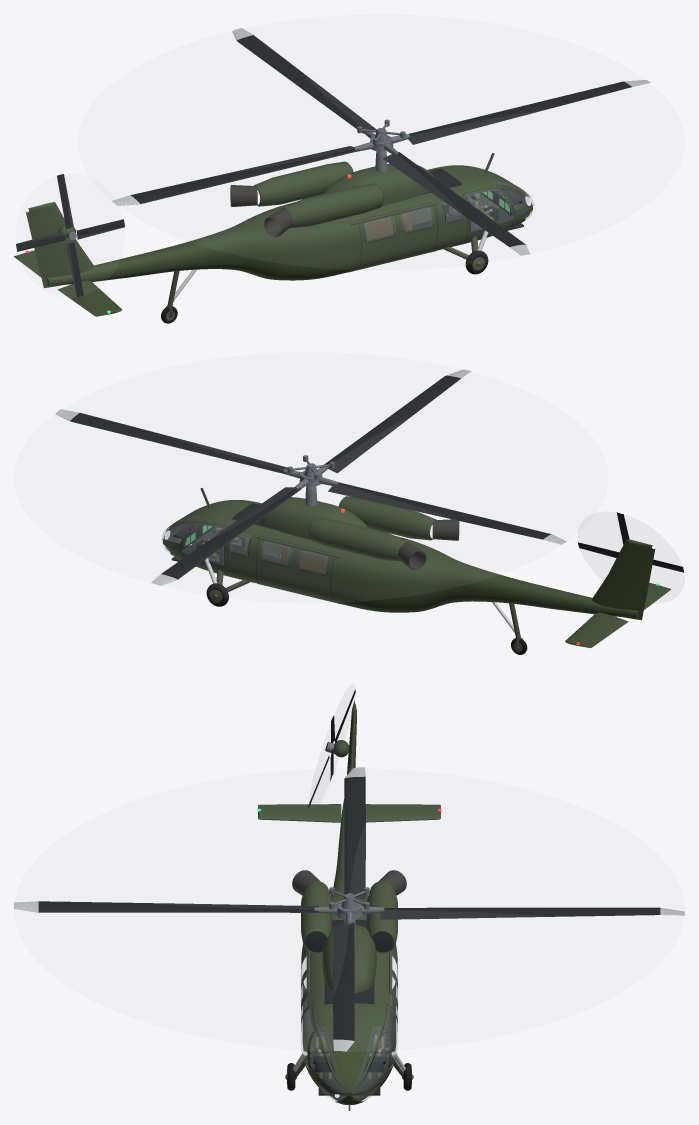
The model's file is mheli.glb.
The picture shows the model from 3 angles, top to bottom: view 1: azimuth 30°, elevation 25°; view 2: azimuth 150°, elevation 25°; view 3: azimuth 270°, elevation 25°; orthographic projection. The views are drawn at different scales.
Parts seen in each view (by area): view 1: fuselage, mr_blades, cabin_glass, engine_r_nacelle, tail_pylon, engine_l_nacelle, gearbox_fairing, tr_blades, stabilator_r, window_frames, mr_head, cabin_lining (+6 smaller); view 2: fuselage, mr_blades, tail_pylon, cabin_glass, engine_l_nacelle, engine_r_nacelle, gearbox_fairing, stabilator_l, window_frames, mr_head, tr_blades, mr_tips (+5 smaller); view 3: mr_blades, fuselage, cabin_glass, gearbox_fairing, stabilator_r, window_frames, engine_r_nacelle, engine_l_nacelle, stabilator_l, cabin_lining, mr_head, mr_tips (+1 smaller).
Part boxes in pixels (box(x1,y1,x2,y2)): fuselage: box(47, 165, 533, 285); mr_blades: box(130, 35, 631, 246); cabin_glass: box(363, 182, 533, 241); engine_r_nacelle: box(282, 183, 383, 228); tail_pylon: box(25, 202, 94, 288); engine_l_nacelle: box(253, 161, 353, 206); gearbox_fairing: box(323, 163, 434, 205); tr_blades: box(16, 174, 124, 297); stabilator_r: box(57, 280, 122, 316); window_frames: box(362, 182, 533, 243); mr_head: box(353, 119, 409, 154); cabin_lining: box(412, 184, 531, 225); fuselage: box(162, 500, 638, 617); mr_blades: box(70, 375, 551, 579); tail_pylon: box(591, 539, 655, 620); cabin_glass: box(162, 517, 329, 574); engine_l_nacelle: box(309, 517, 408, 561); engine_r_nacelle: box(339, 496, 436, 540); gearbox_fairing: box(259, 497, 367, 539); stabilator_l: box(565, 612, 628, 647); window_frames: box(162, 516, 330, 576); mr_head: box(283, 455, 338, 489); tr_blades: box(578, 512, 684, 602); mr_tips: box(55, 369, 566, 585); mr_blades: box(38, 776, 660, 1040); fuselage: box(301, 799, 397, 1104); cabin_glass: box(301, 954, 397, 1102); gearbox_fairing: box(322, 925, 376, 993); stabilator_r: box(258, 804, 341, 822); window_frames: box(301, 953, 397, 1102); engine_r_nacelle: box(301, 881, 332, 953); engine_l_nacelle: box(366, 881, 397, 953); stabilator_l: box(365, 804, 440, 822); cabin_lining: box(302, 982, 396, 1101); mr_head: box(314, 887, 384, 924); mr_tips: box(14, 767, 684, 1051).
Bounding box in the file's own units: 19.78 × 5.13 × 16.36.
